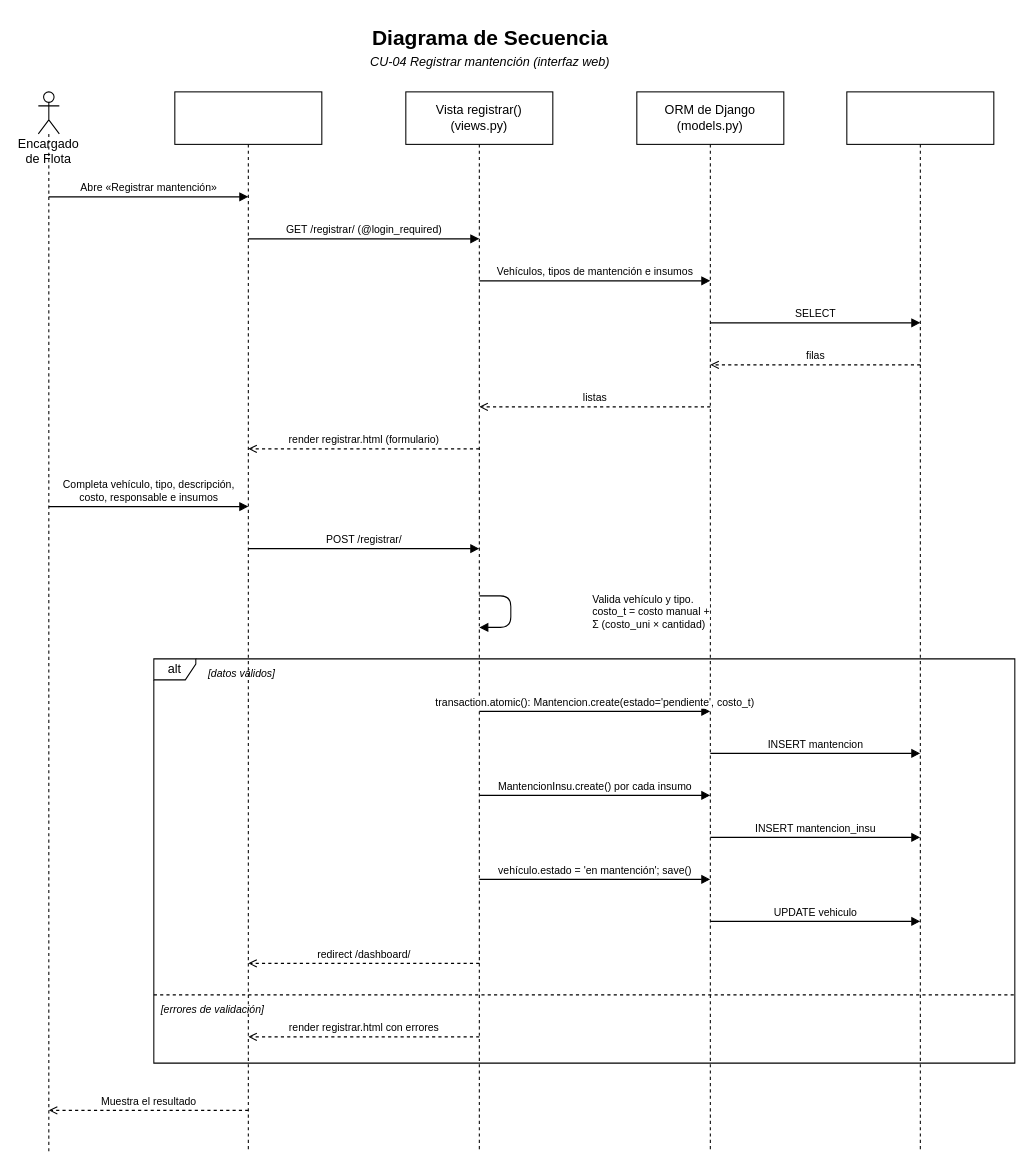
The diagram is 1034 pixels wide and 1171 high, and some of its shapes have lost their labels. Here are the shapes that lost their labels. From the top down, the box of each, then its label:
(174, 91, 322, 1152): Navegador (registrar.html)
(846, 91, 994, 1152): Base de datos (SQLite)
